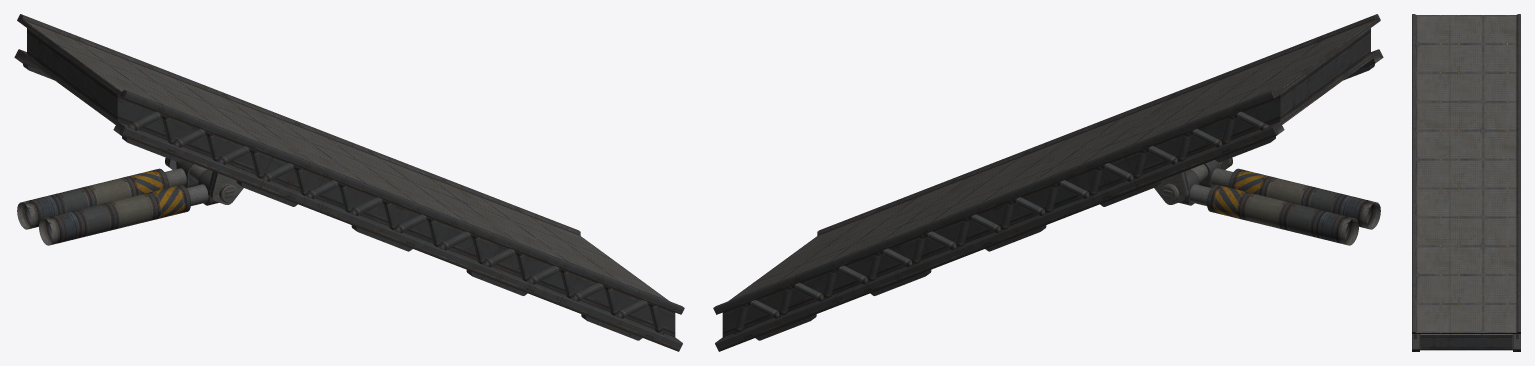
The model's file is Wall1_Ramp1.fbx.
3 renders of one model, left to right at view 1: azimuth 30°, elevation 25°; view 2: azimuth 150°, elevation 25°; view 3: azimuth 270°, elevation 25°, orthographic. The views are drawn at different scales.
Parts seen in each view (by area): view 1: polySurface907; view 2: polySurface907; view 3: polySurface907.
Part boxes in pixels (x1,y1,x2,y2): polySurface907: [14, 14, 684, 351]; polySurface907: [713, 14, 1383, 351]; polySurface907: [1412, 14, 1520, 351].
Bounding box in the file's own units: 1604 × 1014 × 498.
